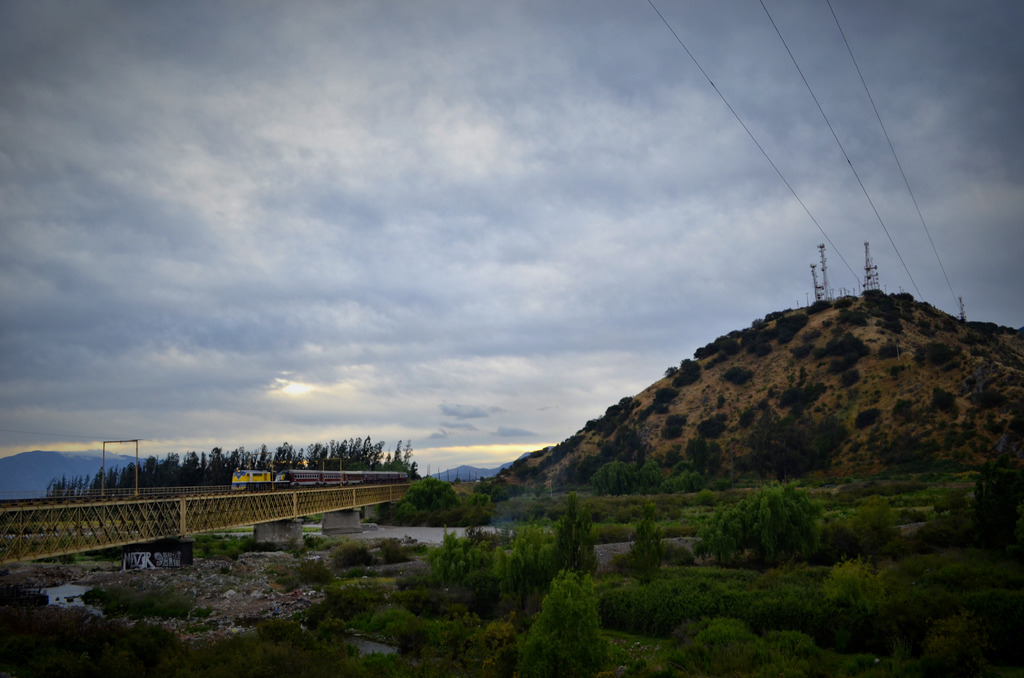Tree: (663, 283, 1023, 404), (41, 435, 416, 498), (695, 475, 823, 587), (514, 562, 616, 677), (658, 623, 817, 677), (736, 405, 838, 474), (544, 498, 602, 571), (428, 529, 497, 578), (391, 471, 453, 524), (628, 501, 668, 580), (494, 516, 560, 559), (591, 458, 631, 504), (371, 609, 418, 644), (331, 540, 378, 571), (662, 458, 698, 494), (455, 490, 486, 526), (636, 458, 661, 499), (686, 434, 707, 476), (476, 479, 508, 505), (698, 418, 727, 438), (662, 412, 684, 435), (382, 539, 401, 562), (528, 475, 545, 500), (581, 418, 597, 434)
